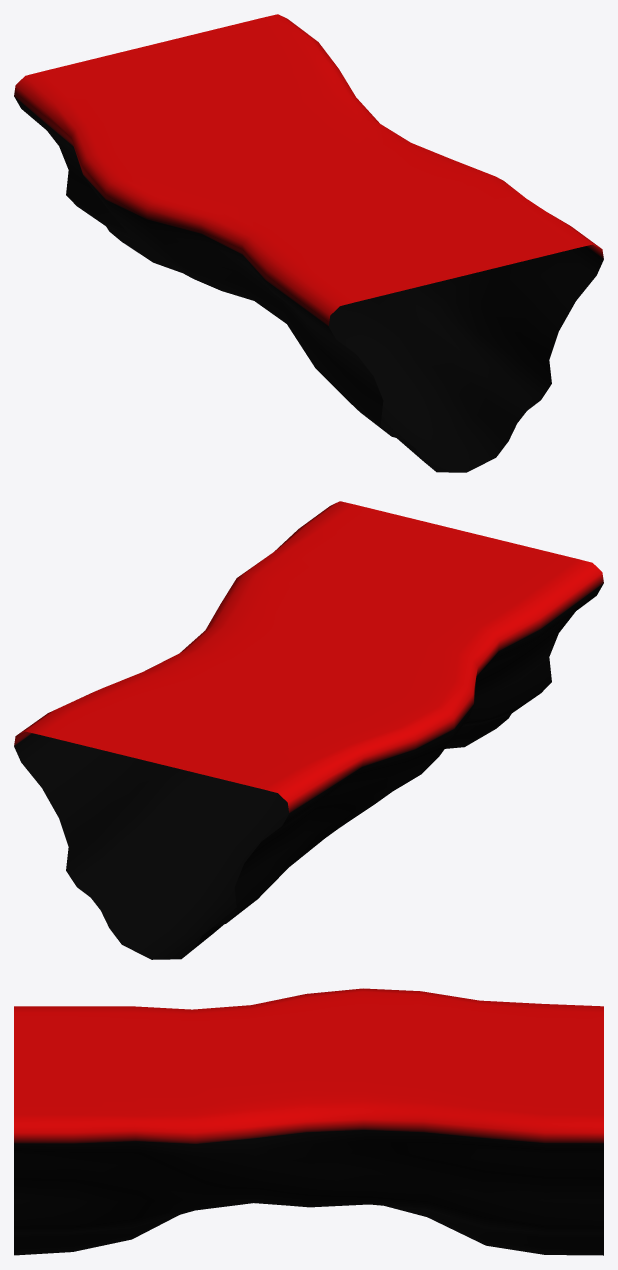
File: CrossingCliff01C 2M Foreground.fbx
3 views of the same model, one above another, from view 1: azimuth 30°, elevation 25°; view 2: azimuth 150°, elevation 25°; view 3: azimuth 270°, elevation 25° (orthographic). The views are drawn at different scales.
Visible parts, largest first — view 1: CrossingCliff01C 2M Foreground; view 2: CrossingCliff01C 2M Foreground; view 3: CrossingCliff01C 2M Foreground.
Boxes of the visible parts, x1,y1,x2,y2 form: CrossingCliff01C 2M Foreground: [14, 14, 603, 472]; CrossingCliff01C 2M Foreground: [14, 501, 603, 959]; CrossingCliff01C 2M Foreground: [14, 988, 603, 1255].
Size of the model in its own units: 1.15 by 0.6931 by 2.
